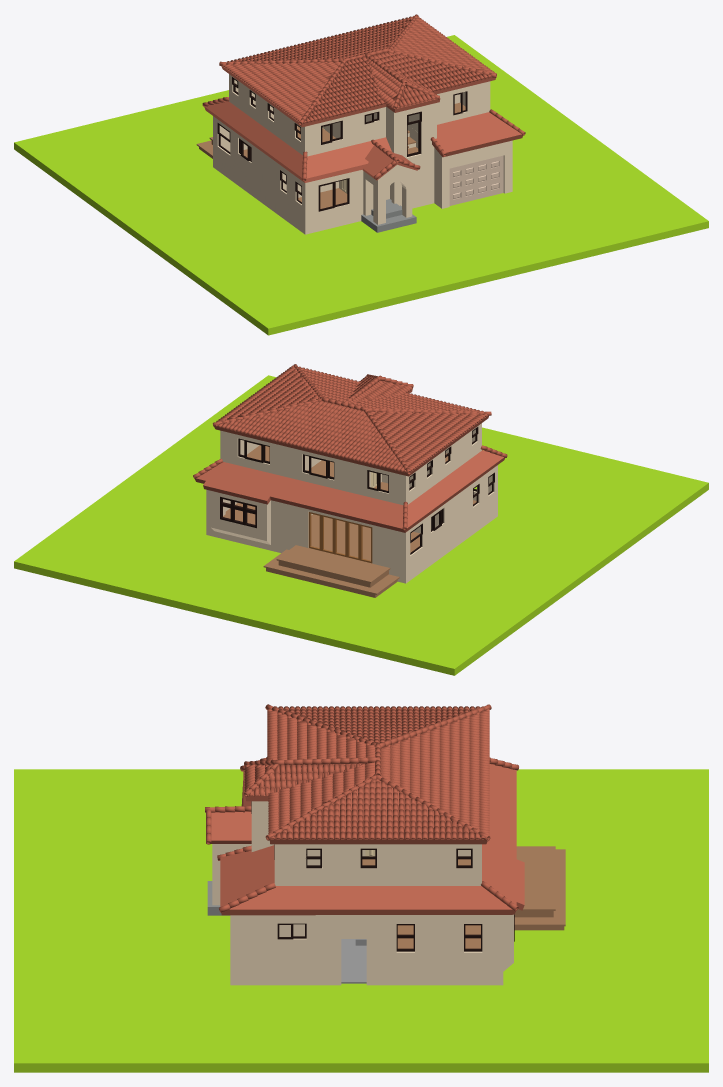
The model's file is My House.glb.
The picture shows the model from 3 angles, top to bottom: view 1: azimuth 30°, elevation 25°; view 2: azimuth 150°, elevation 25°; view 3: azimuth 270°, elevation 25°; orthographic projection. The views are drawn at different scales.
Visible parts, largest first — view 1: Ground, Walls, Lower Roof Base, Roof Tiles.001, Roof Tiles.002, Roof Tiles, Sample Roof Tile 0.002, Sample Roof Tile 0.001, Garage Door, Porch Structure, Upper Roof Base, Front Steps (+2 smaller); view 2: Ground, Walls, Lower Roof Base, Roof Tiles.002, Roof Tiles.001, Sample Roof Tile 0.002, Backyard Deck.002, Floor, Upper Roof Base, Window Extension, Roof Tiles, Deck Window (+6 smaller); view 3: Ground, Walls, Lower Roof Base, Roof Tiles.002, Sample Roof Tile 0.002, Roof Tiles.001, Upper Roof Base, Roof Tiles, Sample Roof Tile 0.001, Backyard Deck.002, Sample Roof Tile 0.003, Porch Roof (+8 smaller).
Boxes of the visible parts, box(x1,y1,x2,y2) form: Ground: box(14, 35, 708, 335); Walls: box(213, 74, 512, 234); Lower Roof Base: box(204, 101, 522, 182); Roof Tiles.001: box(222, 61, 340, 121); Roof Tiles.002: box(227, 16, 414, 61); Roof Tiles: box(303, 56, 385, 123); Sample Roof Tile 0.002: box(392, 16, 496, 73); Sample Roof Tile 0.001: box(371, 51, 492, 91); Garage Door: box(449, 155, 503, 205); Porch Structure: box(363, 164, 412, 224); Upper Roof Base: box(221, 41, 495, 127); Front Steps: box(361, 199, 416, 232); Ground: box(14, 375, 708, 675); Walls: box(206, 423, 497, 583); Lower Roof Base: box(195, 450, 504, 532); Roof Tiles.002: box(215, 400, 406, 472); Roof Tiles.001: box(369, 411, 488, 471); Sample Roof Tile 0.002: box(216, 365, 319, 422); Backyard Deck.002: box(276, 545, 390, 583); Floor: box(225, 500, 476, 560); Upper Roof Base: box(214, 381, 488, 476); Window Extension: box(210, 491, 270, 544); Roof Tiles: box(349, 392, 486, 411); Deck Window: box(308, 512, 372, 563); Ground: box(14, 769, 708, 1072); Walls: box(230, 801, 503, 985); Lower Roof Base: box(220, 764, 524, 915); Roof Tiles.002: box(381, 708, 489, 835); Sample Roof Tile 0.002: box(270, 778, 484, 839); Roof Tiles.001: box(274, 706, 483, 743); Upper Roof Base: box(245, 711, 488, 844); Roof Tiles: box(267, 709, 375, 760); Sample Roof Tile 0.001: box(268, 762, 374, 833); Backyard Deck.002: box(516, 846, 555, 910); Sample Roof Tile 0.003: box(249, 763, 365, 796); Porch Roof: box(211, 811, 251, 843).
Bounding box in the file's own units: 22.48 × 6.26 × 22.48.
